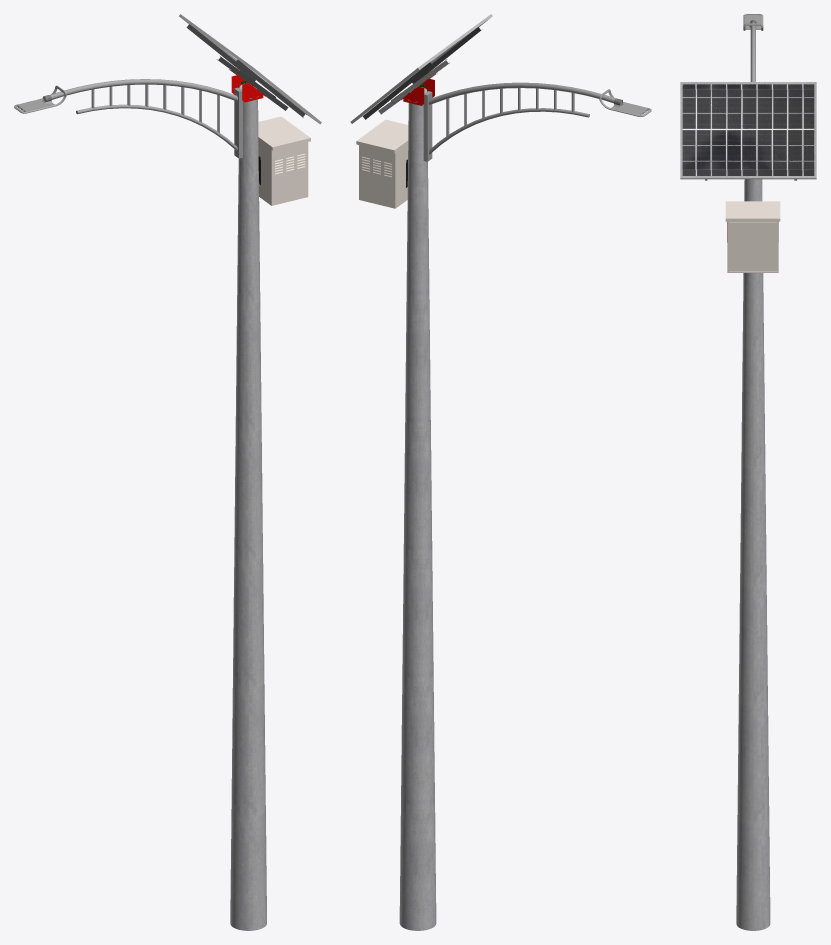
File: streetlamp.glb
3 renders of one model, left to right at view 1: azimuth 30°, elevation 25°; view 2: azimuth 150°, elevation 25°; view 3: azimuth 270°, elevation 25°, orthographic. The views are drawn at different scales.
Visible parts, largest first — view 1: poste_21, BatteryBox_22, BrazoPoste_1, SolarPanel_28; view 2: poste_21, BatteryBox_22, BrazoPoste_1, SolarPanel_28; view 3: poste_21, SolarPanel_28, BatteryBox_22, BrazoPoste_1.
Boxes of the visible parts, bbox=[...] form: poste_21: bbox=[230, 83, 266, 930]; BatteryBox_22: bbox=[258, 116, 310, 205]; BrazoPoste_1: bbox=[43, 79, 242, 158]; SolarPanel_28: bbox=[179, 14, 321, 124]; poste_21: bbox=[399, 87, 436, 930]; BatteryBox_22: bbox=[356, 119, 408, 208]; BrazoPoste_1: bbox=[423, 82, 622, 161]; SolarPanel_28: bbox=[350, 14, 492, 123]; poste_21: bbox=[736, 179, 770, 930]; SolarPanel_28: bbox=[680, 82, 816, 179]; BatteryBox_22: bbox=[725, 201, 780, 272]; BrazoPoste_1: bbox=[750, 22, 755, 81].
Bounding box in the file's own units: 3.48 × 10.68 × 1.6.
19 materials, 9 textured.
